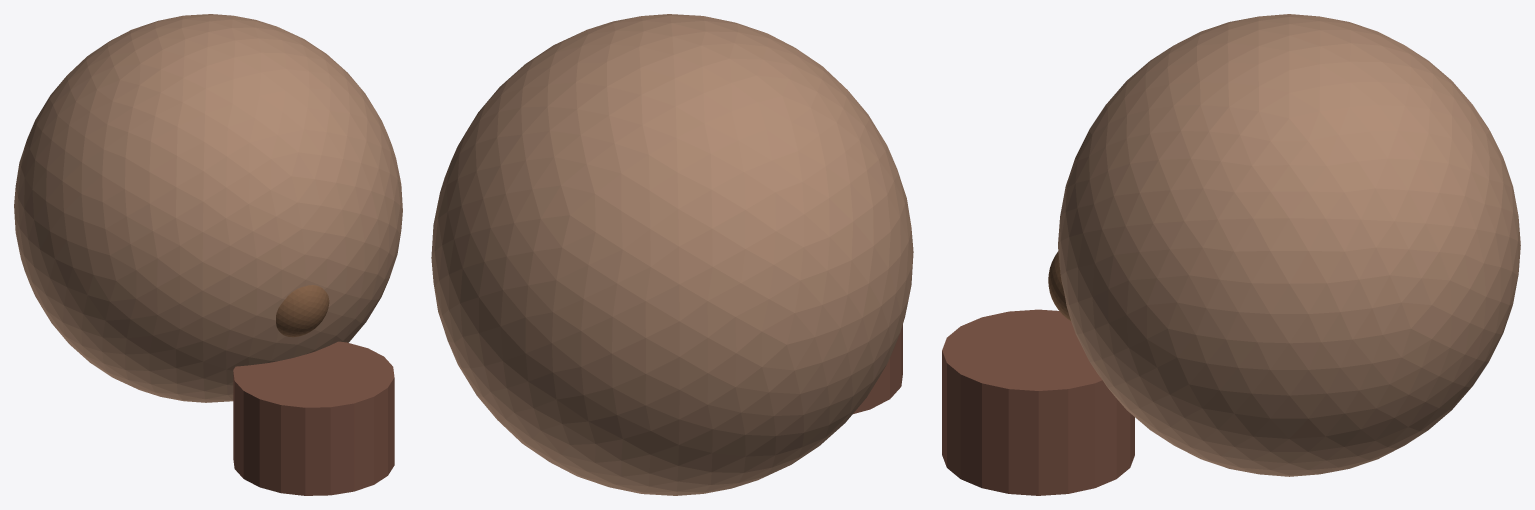
File: stylized_anthill.glb
3 renders of one model, left to right at view 1: azimuth 30°, elevation 25°; view 2: azimuth 150°, elevation 25°; view 3: azimuth 270°, elevation 25°, orthographic. The views are drawn at different scales.
Parts seen in each view (by area): view 1: world; view 2: world; view 3: world.
Part boxes in pixels (left/top/right/bottom): world: left=14, top=14, right=402, bottom=495; world: left=431, top=14, right=913, bottom=495; world: left=942, top=14, right=1520, bottom=495.
Size of the model in its own units: 2.4 by 2.4 by 3.
